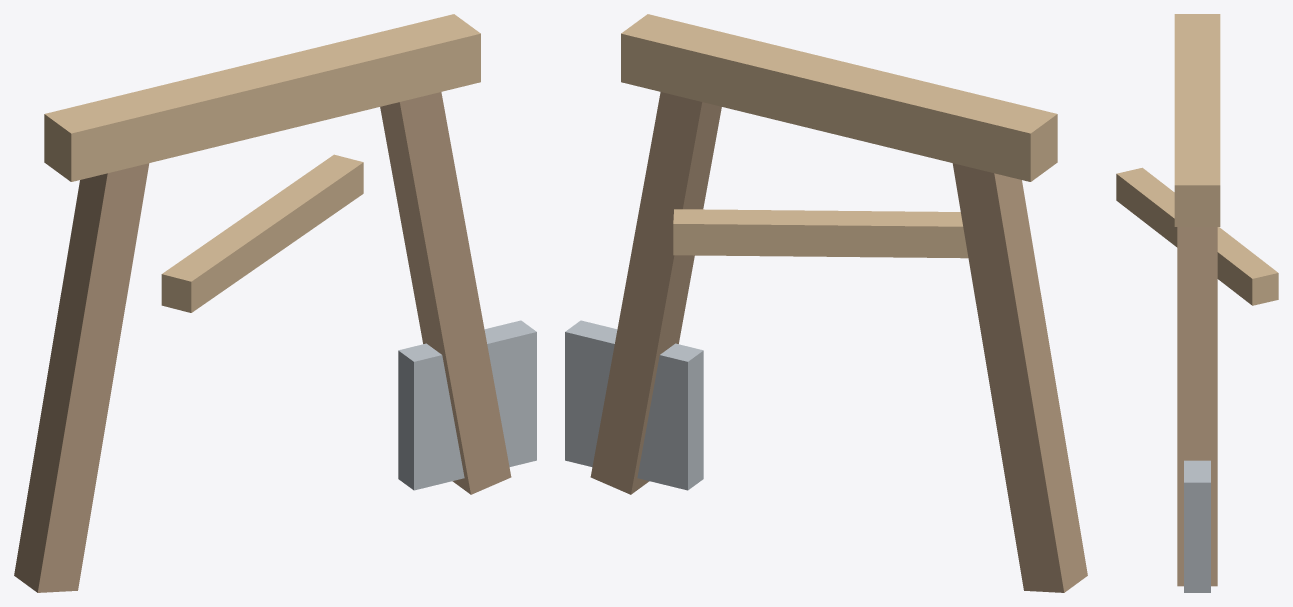
The model's file is timber_frame.glb.
The picture shows the model from 3 angles, left to right: view 1: azimuth 30°, elevation 25°; view 2: azimuth 150°, elevation 25°; view 3: azimuth 270°, elevation 25°; orthographic projection. The views are drawn at different scales.
Visible parts, largest first — view 1: timber_frame; view 2: timber_frame; view 3: timber_frame.
Boxes of the visible parts, bbox=[...] form: timber_frame: bbox=[14, 14, 536, 592]; timber_frame: bbox=[565, 14, 1087, 592]; timber_frame: bbox=[1116, 14, 1278, 592].
Size of the model in its own units: 3.68 by 3.22 by 1.2.
